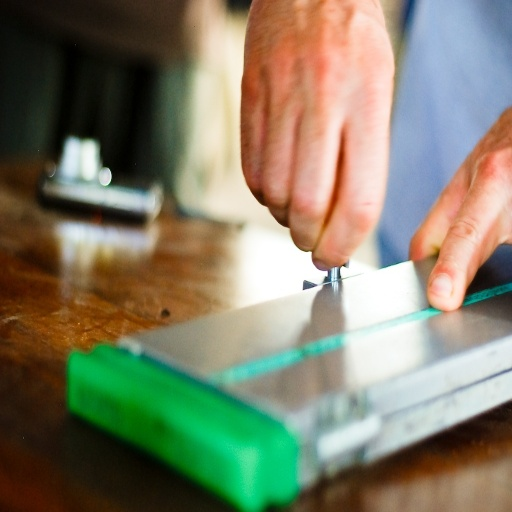hand: (239, 5, 400, 273), (407, 103, 511, 314)
